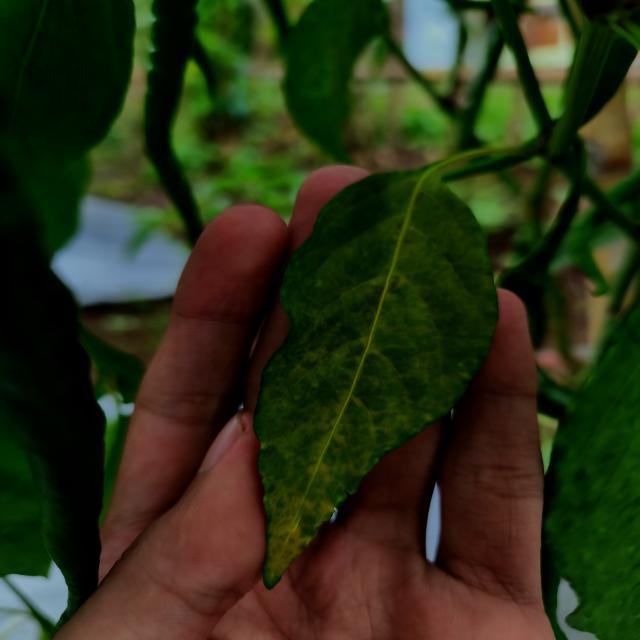Virus Kuning: (252, 155, 499, 589)
